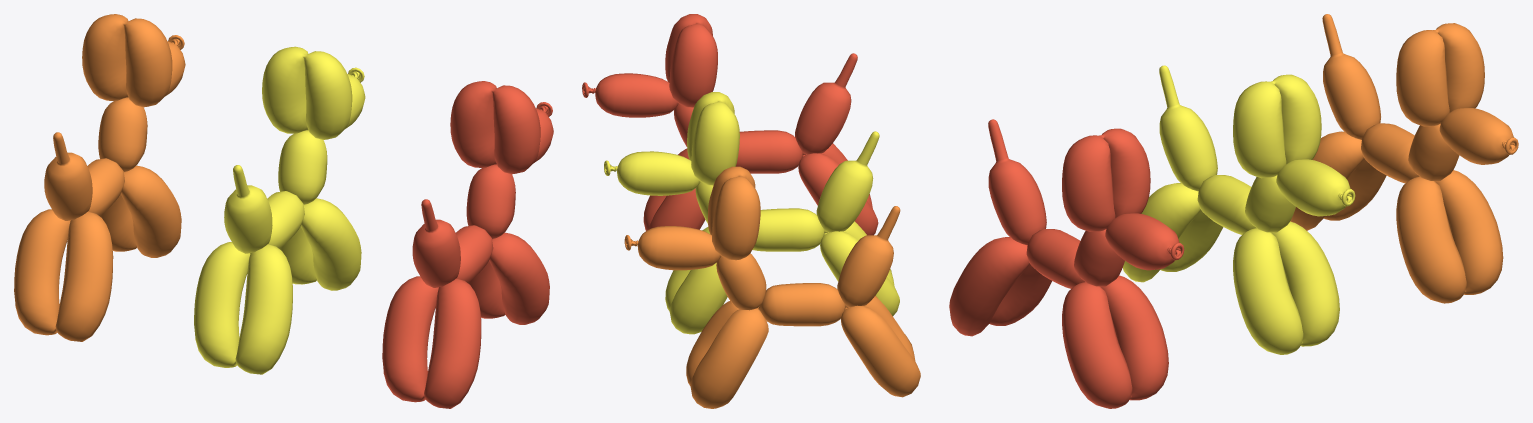
File: prop_balloonDog.fbx
3 renders of one model, left to right at view 1: azimuth 30°, elevation 25°; view 2: azimuth 150°, elevation 25°; view 3: azimuth 270°, elevation 25°, orthographic. The views are drawn at different scales.
Visible parts, largest first — view 1: C_balloonDogA_03_render_GEO, C_balloonDogA_02_render_GEO, C_balloonDogA_01_render_GEO; view 2: C_balloonDogA_02_render_GEO, C_balloonDogA_01_render_GEO, C_balloonDogA_03_render_GEO; view 3: C_balloonDogA_03_render_GEO, C_balloonDogA_01_render_GEO, C_balloonDogA_02_render_GEO.
Part boxes in pixels (x1,y1,x2,y2): C_balloonDogA_03_render_GEO: (382, 81, 553, 408); C_balloonDogA_02_render_GEO: (14, 14, 185, 341); C_balloonDogA_01_render_GEO: (194, 46, 365, 374); C_balloonDogA_02_render_GEO: (624, 166, 920, 408); C_balloonDogA_01_render_GEO: (604, 92, 899, 334); C_balloonDogA_03_render_GEO: (582, 14, 878, 235); C_balloonDogA_03_render_GEO: (949, 119, 1184, 408); C_balloonDogA_01_render_GEO: (1122, 65, 1355, 354); C_balloonDogA_02_render_GEO: (1290, 14, 1518, 303).
Size of the model in its own units: 202 by 106 by 212.
